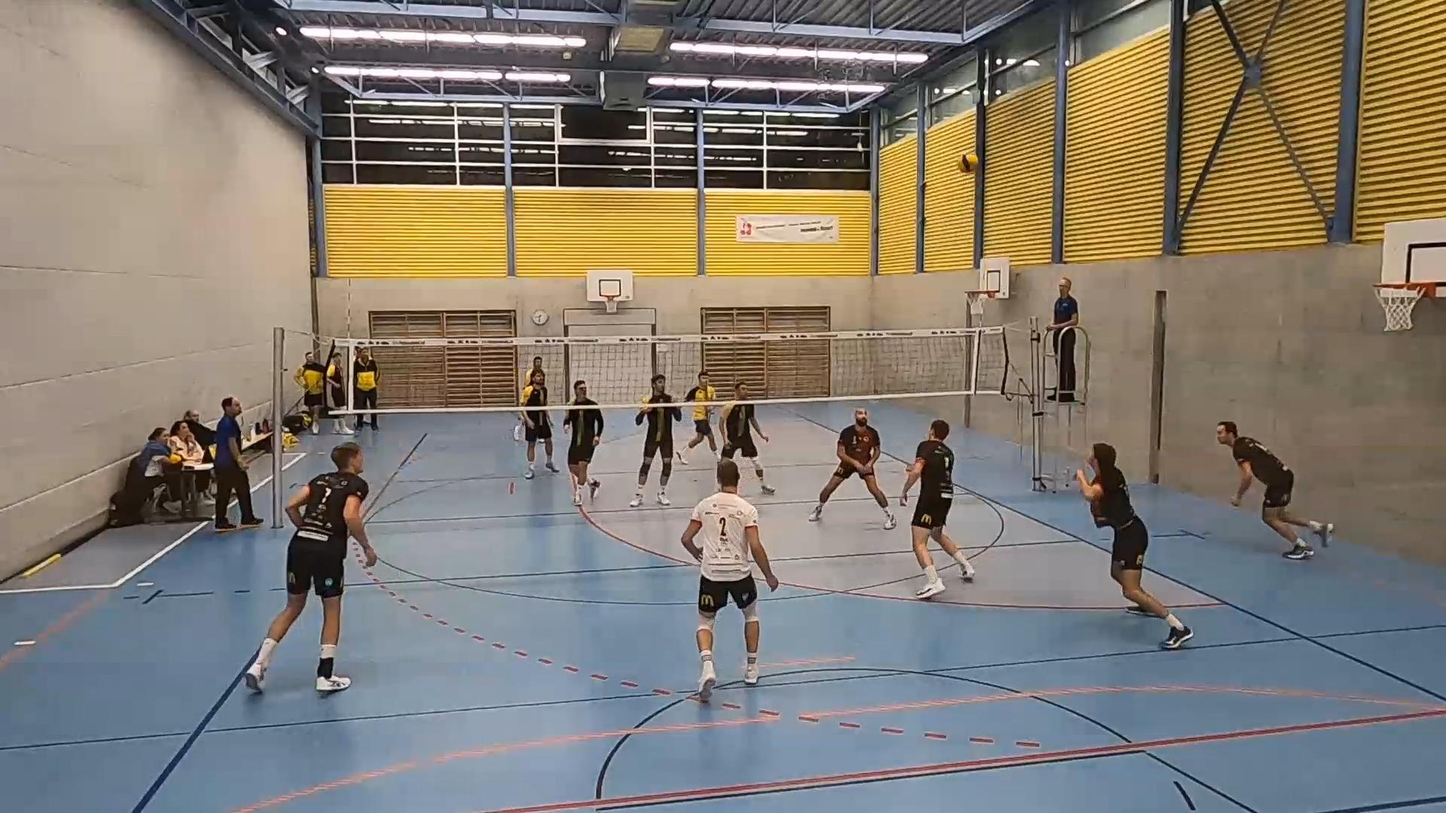Player: (244, 443, 376, 692), (1076, 443, 1193, 649), (682, 459, 778, 702), (1216, 422, 1333, 559), (900, 419, 975, 598), (808, 408, 895, 529), (630, 373, 681, 507), (720, 380, 774, 494), (563, 380, 603, 504), (520, 370, 557, 479), (684, 371, 717, 456), (525, 355, 541, 382)
ball: (957, 150, 978, 171)
